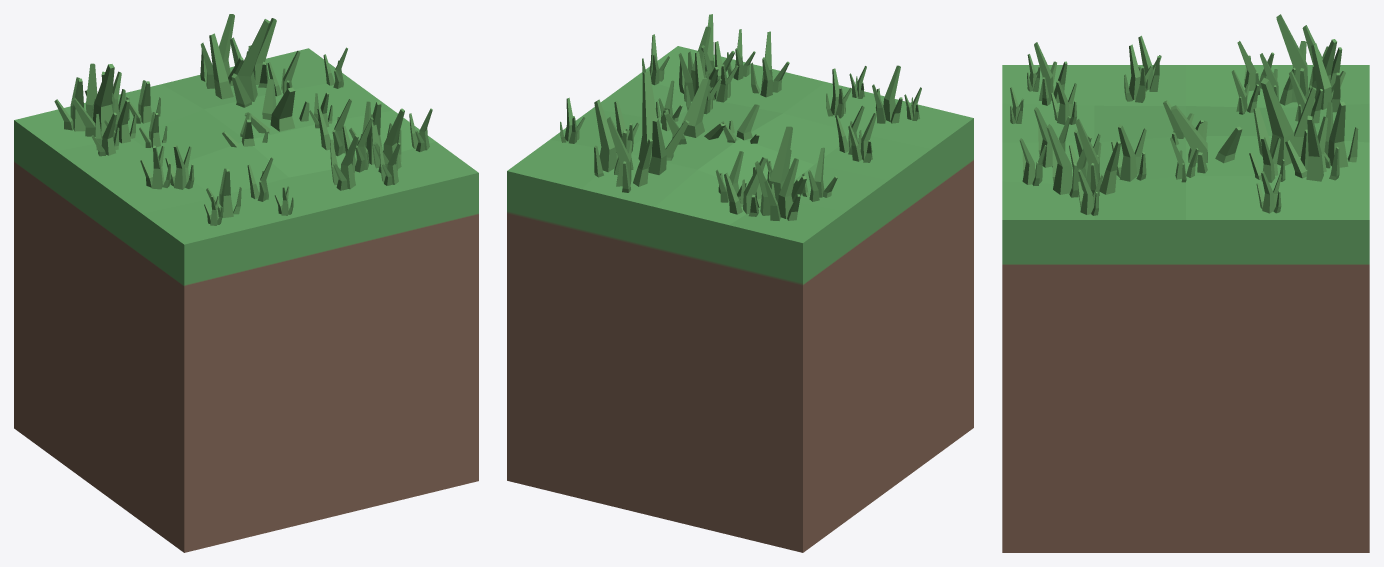
The model's file is 03 Grass Single Mid.fbx.
The picture shows the model from 3 angles, left to right: view 1: azimuth 30°, elevation 25°; view 2: azimuth 150°, elevation 25°; view 3: azimuth 270°, elevation 25°; orthographic projection. The views are drawn at different scales.
Parts seen in each view (by area): view 1: 03 Grass Single Mid; view 2: 03 Grass Single Mid; view 3: 03 Grass Single Mid.
Part boxes in pixels (box(x1,y1,x2,y2)): 03 Grass Single Mid: box(14, 14, 478, 552); 03 Grass Single Mid: box(507, 14, 973, 552); 03 Grass Single Mid: box(1002, 14, 1369, 552).
Size of the model in its own units: 100 by 128 by 100.
1 material, 1 textured.
